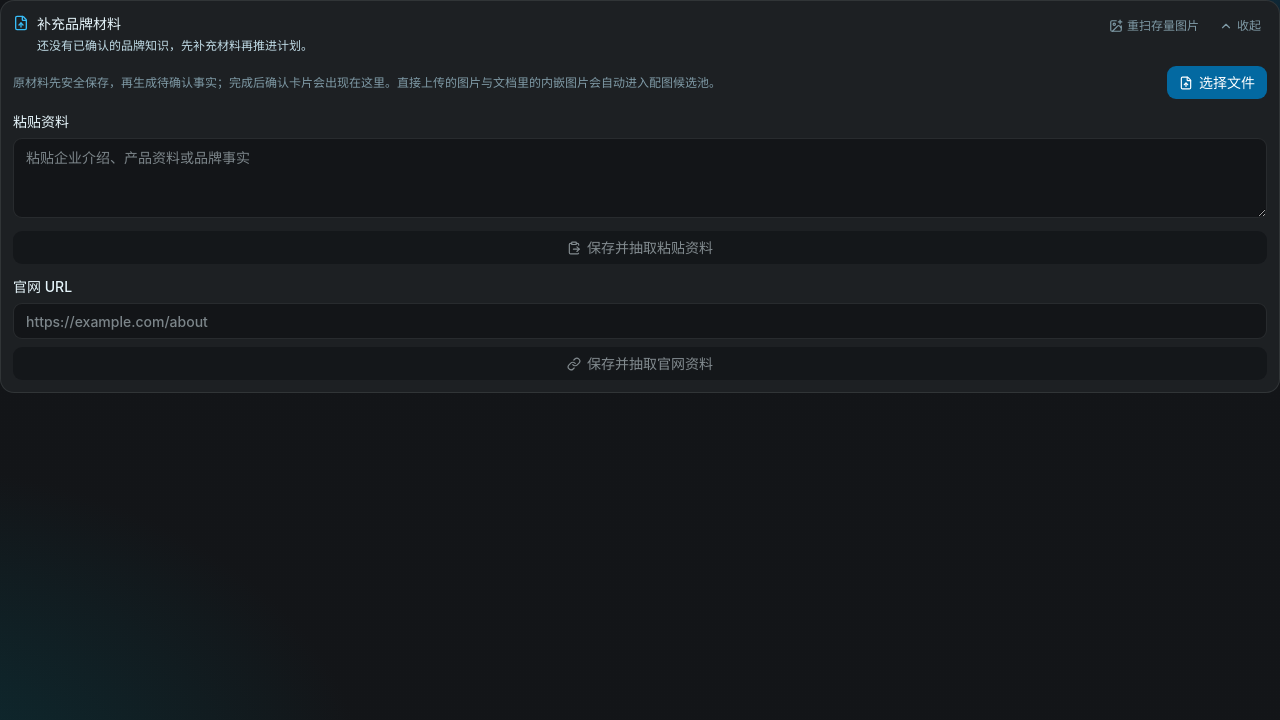
it: MaterialRequestCard › tells the user to rescan again when the pass hits its time budget
Step 1. Click the button with aria-label "重扫存量材料图片" → (1154, 26), box top-left (1103, 13), bottom-right (1205, 38)
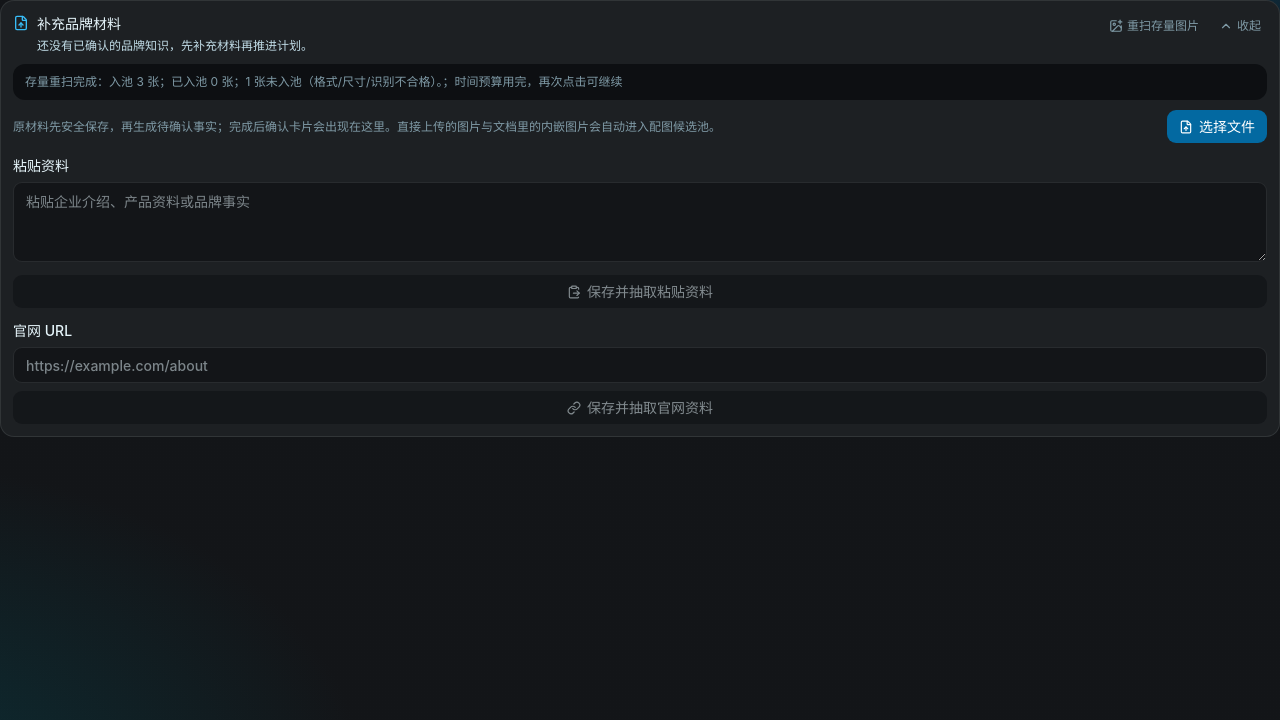
expect the text "存量重扫完成：入池 3 张；已入池 0 张；1 张未入池（格式/尺寸/识别不合格）。；时间预算用完，再次点击可继续" is shown: met, box top-left (13, 64), bottom-right (1267, 100)
